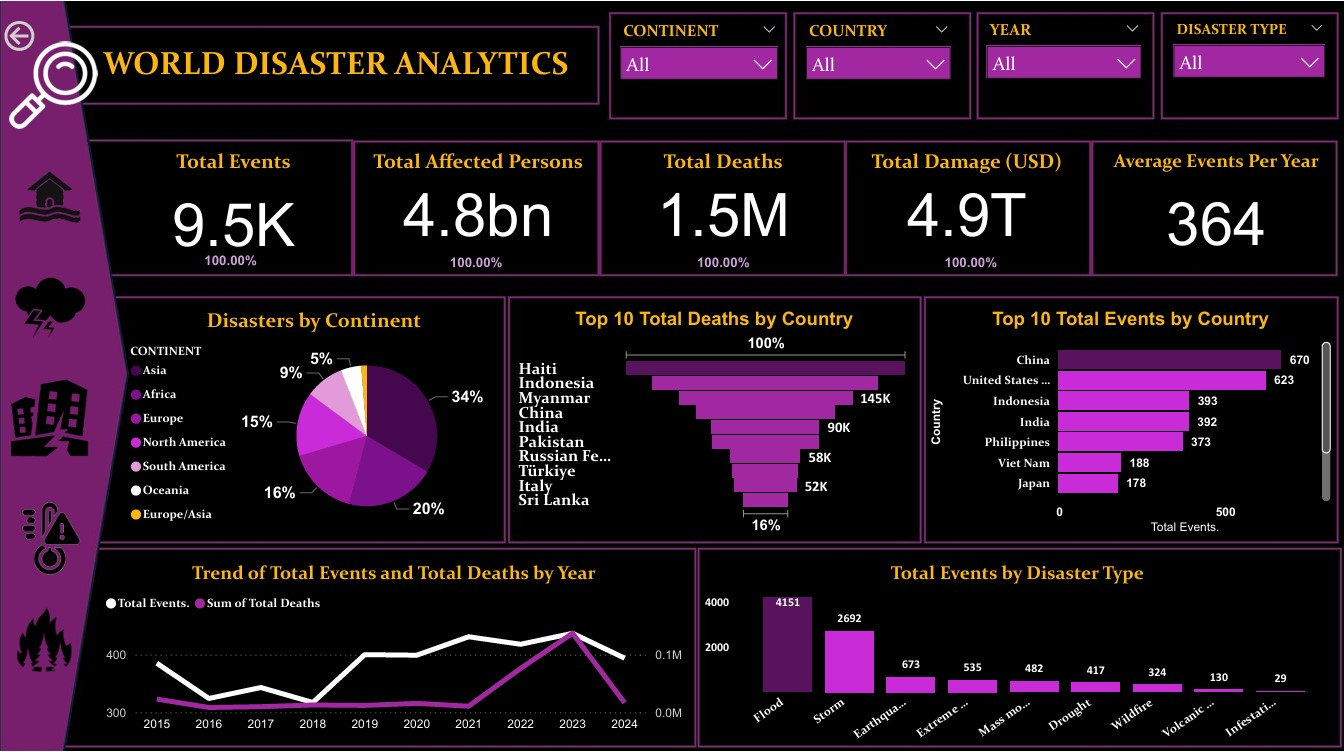

This screenshot's page, from the dashboard's own definition file:
{"tool":"powerbi","page":{"name":"Page 1","canvas":[1350,750],"ordinal":0},"visuals":[{"type":"pieChart","title":"Disasters by Continent","fields":{"Category":["WORLD DIASTER DATASET.CONTINENT"],"Y":["CountNonNull(WORLD DIASTER DATASET.Country)"]},"box":[126,306.6,378,229.6],"z":0,"group":"g1"},{"type":"card","title":"Total Events","fields":{"Values":["Sum(WORLD DIASTER DATASET.Total Events)"]},"box":[119,147,231,117.6],"z":1000,"group":"g1"},{"type":"card","title":"Total Deaths","fields":{"Values":["Sum(WORLD DIASTER DATASET.Total Deaths)"]},"box":[606.2,147,238,96.6],"z":2000,"group":"g1"},{"type":"card","title":"Total Affected Persons","fields":{"Values":["Sum(WORLD DIASTER DATASET.Total Affected)"]},"box":[362.6,147,233.8,96.6],"z":3000,"group":"g1"},{"type":"card","title":"Total Damage (USD)","fields":{"Values":["Sum(WORLD DIASTER DATASET.Total Damage (USD, adjusted))"]},"box":[854,147,229.6,96.6],"z":4000,"group":"g1"},{"type":"card","fields":{"Values":["WORLD DIASTER DATASET.%Events"]},"box":[113.4,246.4,236.6,28],"z":5000,"group":"g1"},{"type":"card","fields":{"Values":["WORLD DIASTER DATASET.%Affected"]},"box":[359.8,246.4,235.2,32.2],"z":6000,"group":"g1"},{"type":"card","fields":{"Values":["WORLD DIASTER DATASET.%Deaths"]},"box":[609,246.4,232.4,32.2],"z":7000,"group":"g1"},{"type":"actionButton","box":[0,14.1,100,40],"z":8000,"group":"g1"},{"type":"card","fields":{"Values":["WORLD DIASTER DATASET.%Damage"]},"box":[859.6,246.4,226.8,32.2],"z":9000,"group":"g1"},{"type":"clusteredBarChart","title":"Top 10 Total Events by Country","fields":{"Category":["COUNTRY.Country"],"Y":["WORLD DIASTER DATASET.Total Events."]},"box":[928.2,306.6,410.2,229.6],"z":10000,"group":"g1"},{"type":"columnChart","title":"Total Events by Disaster Type","fields":{"Category":["WORLD DIASTER DATASET.Disaster Type"],"Y":["Sum(WORLD DIASTER DATASET.Total Events)"]},"box":[701.4,560,637,190.4],"z":11000,"group":"g1"},{"type":"textbox","box":[51.8,35,569.8,75.6],"z":12000,"group":"g1"},{"type":"lineChart","title":"Trend of Total Events and Total Deaths by Year","fields":{"Category":["WORLD DIASTER DATASET.Year"],"Y":["WORLD DIASTER DATASET.Total Events."],"Y2":["Sum(WORLD DIASTER DATASET.Total Deaths)"]},"box":[100.8,560,588,179.2],"z":13000,"group":"g1"},{"type":"funnel","title":"Top 10 Total Deaths by Country","fields":{"Category":["COUNTRY.Country"],"Y":["Sum(WORLD DIASTER DATASET.Total Deaths)"]},"box":[515.2,306.6,401.8,231],"z":14000,"group":"g1"},{"type":"slicer","fields":{"Values":["CONTINENT.CONTINENT"]},"box":[611.8,14,177.8,96.6],"z":15000,"group":"g1"},{"type":"slicer","fields":{"Values":["WORLD DIASTER DATASET.Country"]},"box":[798,14,165.2,96.6],"z":16000,"group":"g1"},{"type":"slicer","fields":{"Values":["YEAR.Year"]},"box":[978.6,12.6,175,98],"z":17000,"group":"g1"},{"type":"slicer","fields":{"Values":["WORLD DIASTER DATASET.Disaster Type"]},"box":[1166.1,12.6,172.2,98],"z":18000,"group":"g1"},{"type":"image","box":[0,149.8,100.8,91],"z":19000,"group":"g1"},{"type":"image","box":[0,263.2,100.8,86.8],"z":20000,"group":"g1"},{"type":"image","box":[2.8,372.4,96.6,88.2],"z":21000,"group":"g1"},{"type":"image","box":[0,488.6,100.8,96.6],"z":22000,"group":"g1"},{"type":"image","box":[0,595,89.6,89.6],"z":23000,"group":"g1"},{"type":"card","title":"Average Events Per Year","fields":{"Values":["WORLD DIASTER DATASET.Average Events per Year"]},"box":[1100.3,147,238,117.6],"z":24000,"group":"g1"},{"type":"group","id":"g1","title":"Group 1","box":[0,12.6,1338.3,737.8],"z":24003},{"type":"image","box":[2.8,35,100.8,96.6],"z":25000,"group":"g1"}]}

Visuals, with their boxes in screenshot pixels (x1, y1, x2, y2), scaled from the page's 1350x750 canvas onto the 1344x752 screenshot:
"Disasters by Continent" pieChart: region(125, 307, 502, 538)
"Total Events" card: region(118, 147, 348, 265)
"Total Deaths" card: region(604, 147, 840, 244)
"Total Affected Persons" card: region(361, 147, 594, 244)
"Total Damage (USD)" card: region(850, 147, 1079, 244)
card - WORLD DIASTER DATASET.%Events: region(113, 247, 348, 275)
card - WORLD DIASTER DATASET.%Affected: region(358, 247, 592, 279)
card - WORLD DIASTER DATASET.%Deaths: region(606, 247, 838, 279)
actionButton: region(0, 14, 100, 54)
card - WORLD DIASTER DATASET.%Damage: region(856, 247, 1082, 279)
"Top 10 Total Events by Country" clusteredBarChart: region(924, 307, 1332, 538)
"Total Events by Disaster Type" columnChart: region(698, 561, 1332, 751)
textbox: region(52, 35, 619, 111)
"Trend of Total Events and Total Deaths by Year" lineChart: region(100, 561, 686, 741)
"Top 10 Total Deaths by Country" funnel: region(513, 307, 913, 539)
slicer - CONTINENT.CONTINENT: region(609, 14, 786, 111)
slicer - WORLD DIASTER DATASET.Country: region(794, 14, 959, 111)
slicer - YEAR.Year: region(974, 13, 1148, 111)
slicer - WORLD DIASTER DATASET.Disaster Type: region(1161, 13, 1332, 111)
image: region(0, 150, 100, 241)
image: region(0, 264, 100, 351)
image: region(3, 373, 99, 462)
image: region(0, 490, 100, 587)
image: region(0, 597, 89, 686)
"Average Events Per Year" card: region(1095, 147, 1332, 265)
"Group 1" group: region(0, 13, 1332, 751)
image: region(3, 35, 103, 132)
